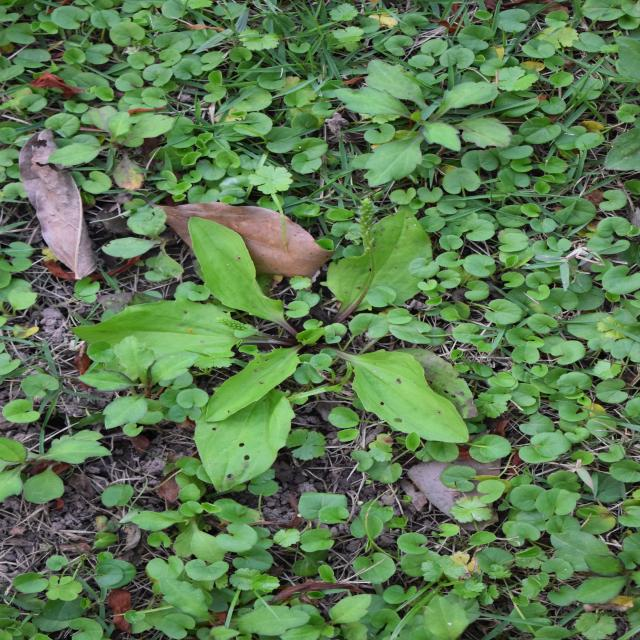plantain: (165, 92, 422, 469)
